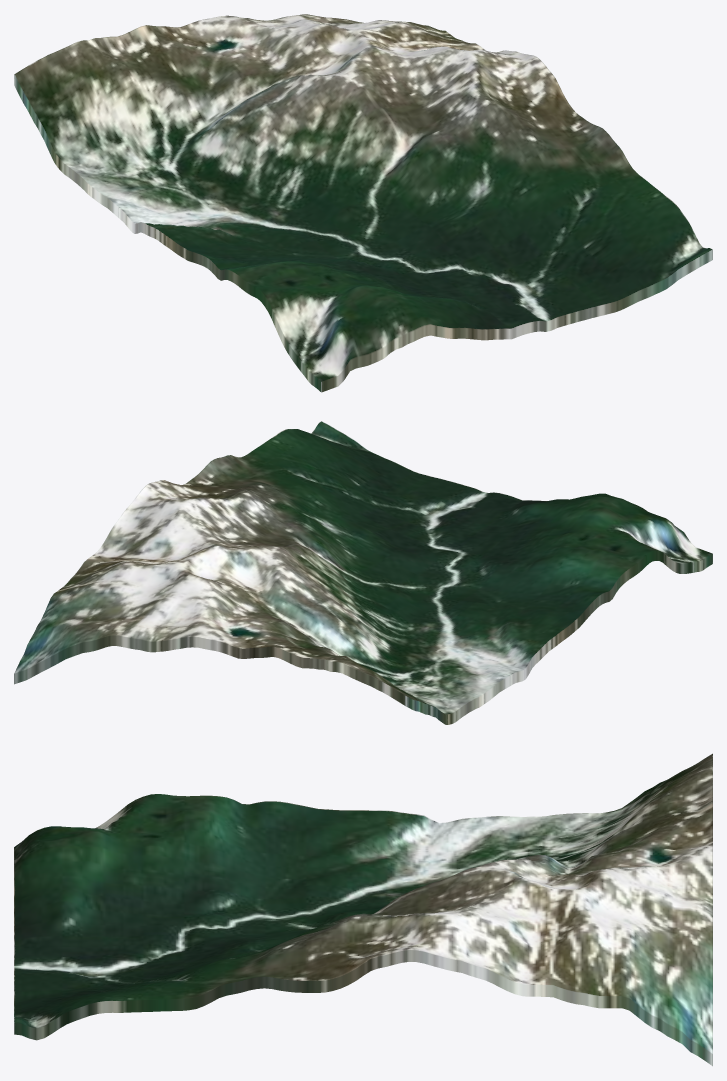
3 views of the same model, one above another, from view 1: azimuth 30°, elevation 25°; view 2: azimuth 150°, elevation 25°; view 3: azimuth 270°, elevation 25° (orthographic). The views are drawn at different scales.
Visible parts, largest first — view 1: tile; view 2: tile; view 3: tile.
Boxes of the visible parts, x1,y1,x2,y2 form: tile: [14, 14, 712, 392]; tile: [14, 421, 712, 724]; tile: [14, 753, 712, 1066].
Size of the model in its own units: 4050 by 1159 by 5505.
Materials: 1 (1 with a texture image).
